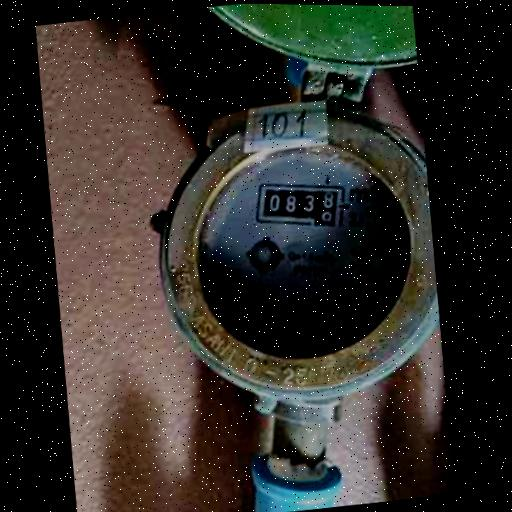0: (260, 187, 285, 218)
3: (295, 188, 320, 220)
8: (310, 187, 341, 229), (277, 187, 303, 219)
border_water_meter_number: (249, 171, 349, 237)
